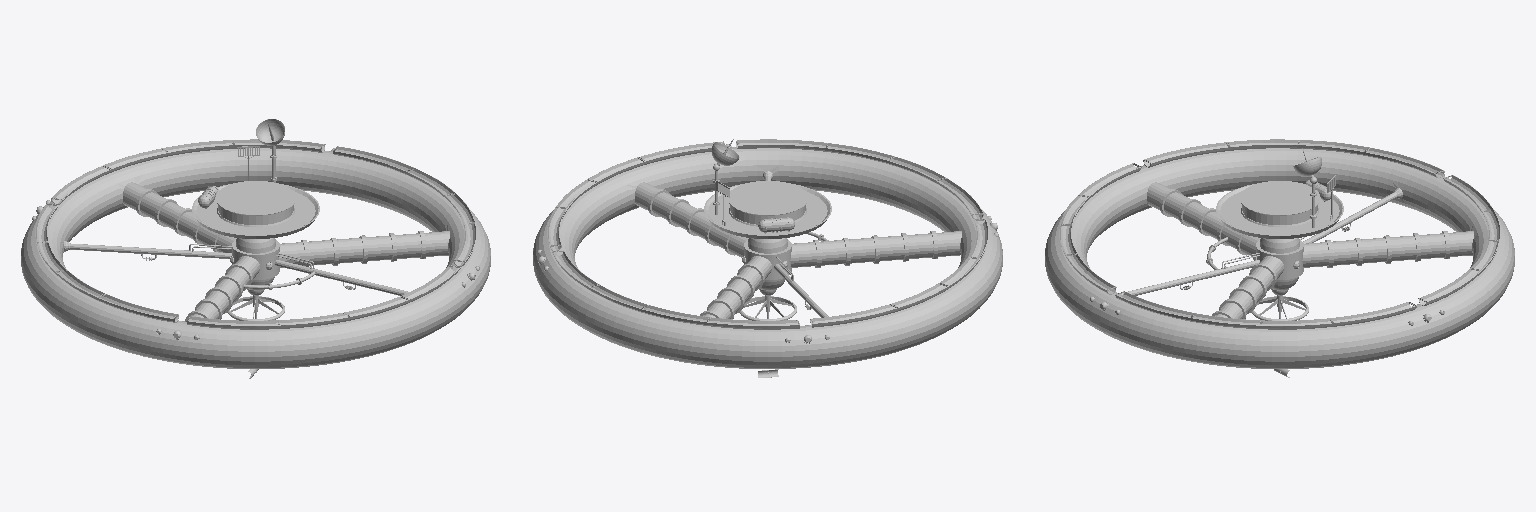
The model's file is uploads_files_2840923_SpaceStation.obj.
The picture shows the model from 3 angles: view 1: azimuth 30°, elevation 25°; view 2: azimuth 150°, elevation 25°; view 3: azimuth 270°, elevation 25°; orthographic projection.
Visible parts, largest first — view 1: Ss; view 2: Ss; view 3: Ss.
Part boxes in pixels (bbox=[...]): Ss: bbox=[21, 119, 490, 378]; Ss: bbox=[533, 139, 1002, 377]; Ss: bbox=[1045, 139, 1514, 377].
Size of the model in its own units: 3271 by 1837 by 3271.